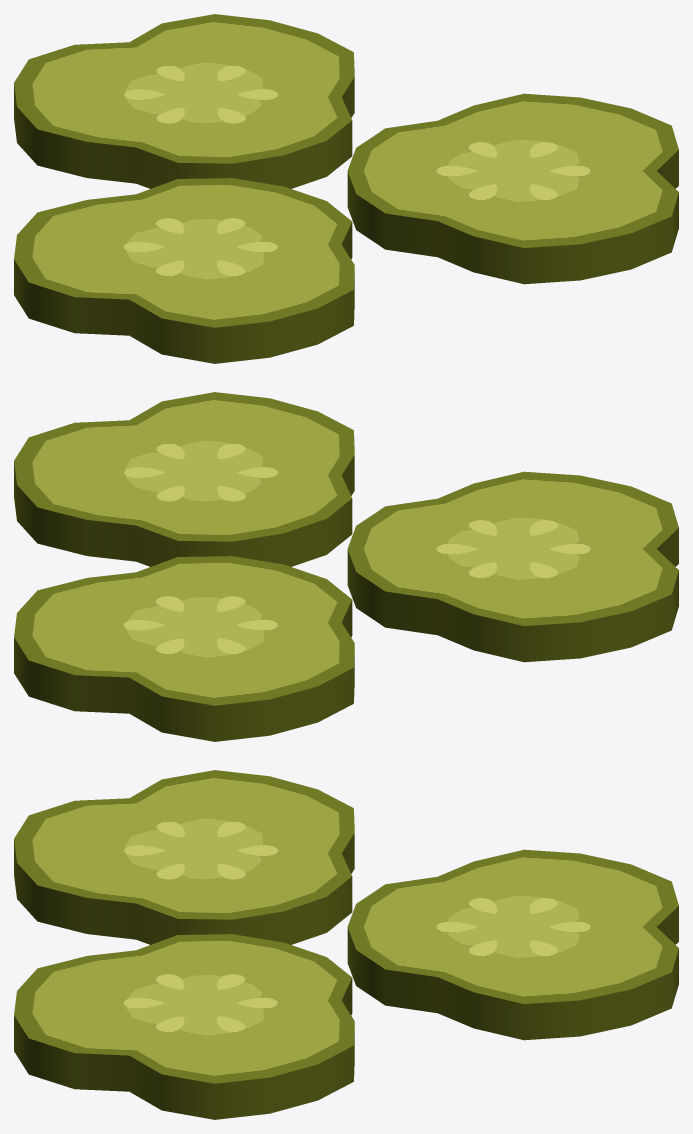
Rendered from Pickle_Slice.glb.
3 views of the same model, one above another, from view 1: azimuth 30°, elevation 25°; view 2: azimuth 150°, elevation 25°; view 3: azimuth 270°, elevation 25° (orthographic).
Visible parts, largest first — view 1: Pickle_Slice; view 2: Pickle_Slice; view 3: Pickle_Slice.
Boxes of the visible parts, <box> form: Pickle_Slice: <box>14,14,678,363</box>; Pickle_Slice: <box>14,392,678,741</box>; Pickle_Slice: <box>14,770,678,1119</box>.
Size of the model in its own units: 18.63 by 1 by 16.69.
Materials: 1 (1 with a texture image).
